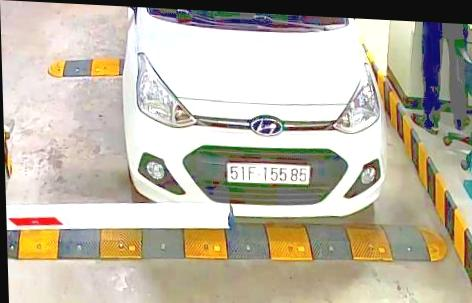License_Plate: (226, 159, 311, 190)
